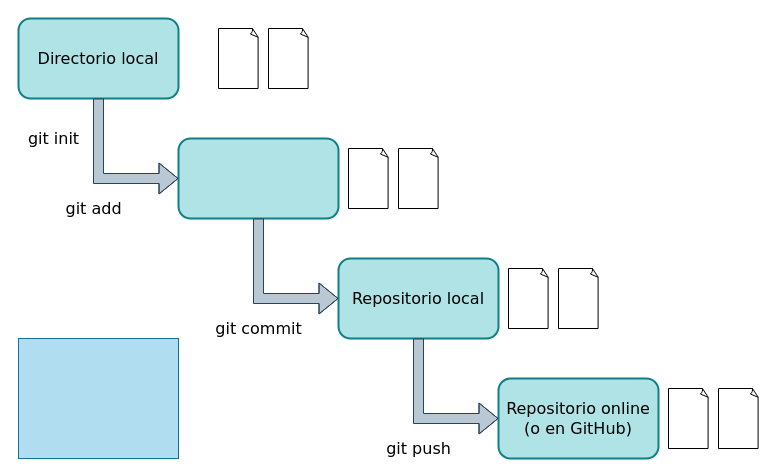
The diagram is 776 pixels wide and 476 high, and some of its shapes have lost their labels. The centre of each missing label's shape, as x and y in pixels:
Comandos básicos: git init git add git comit git push: point (98, 398)
Área de ensayo: point (258, 178)
